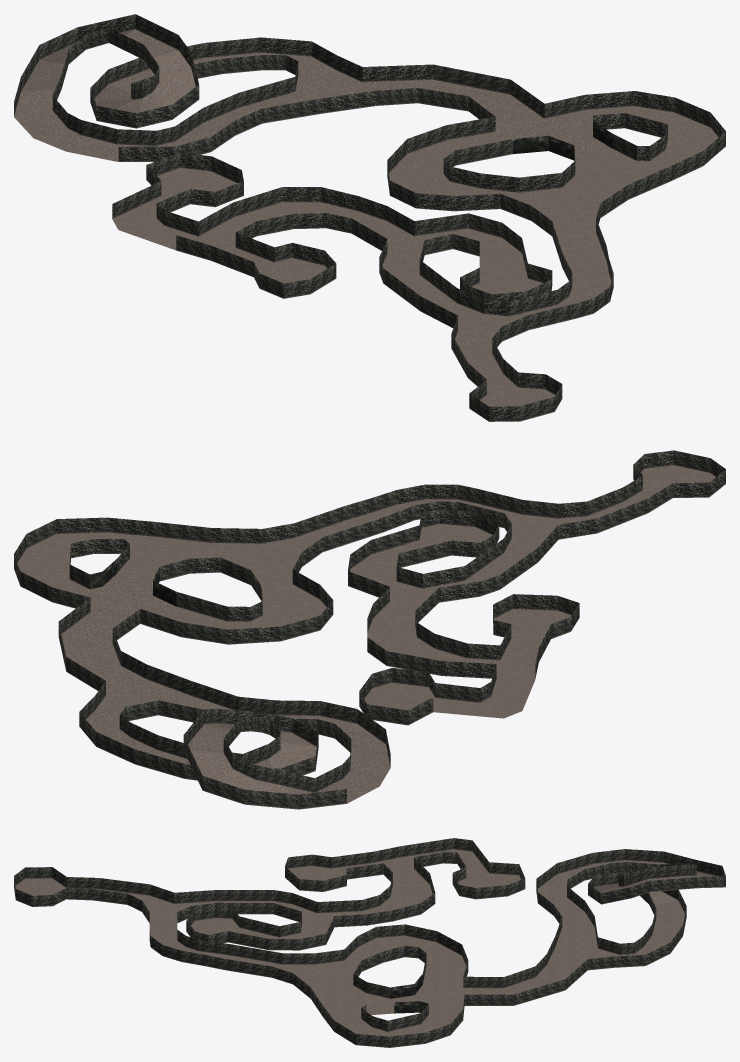
File: map1.fbx
3 views of the same model, one above another, from view 1: azimuth 30°, elevation 25°; view 2: azimuth 150°, elevation 25°; view 3: azimuth 270°, elevation 25° (orthographic). The views are drawn at different scales.
Parts seen in each view (by area): view 1: Room.014, Room.003, Room.018, Room.008, Room.015, Room.001, Room.006, Room.017, Room.002, Room.012, Room, Room.020 (+18 smaller); view 2: Room.003, Room.014, Room.002, Room.018, Room.008, Room.013, Room.015, Room.005, Room.001, Room.017, Room.010, Room (+18 smaller); view 3: Room.003, Room.014, Room.018, Room.002, Room.015, Room.008, Room.013, Room.010, Room.009, Room.016, Room.007, Room.017 (+18 smaller).
Part boxes in pixels (<box>): Room.014: <box>176,187,414,260</box>; Room.003: <box>500,134,669,235</box>; Room.018: <box>362,64,544,131</box>; Room.008: <box>387,116,512,194</box>; Room.015: <box>211,232,336,298</box>; Room.001: <box>420,288,576,341</box>; Room.006: <box>585,91,710,139</box>; Room.017: <box>496,95,612,160</box>; Room.002: <box>552,218,613,318</box>; Room.012: <box>388,213,521,256</box>; Room: <box>146,152,243,207</box>; Room.020: <box>203,77,320,135</box>; Room.003: <box>117,522,322,584</box>; Room.014: <box>367,587,538,680</box>; Room.002: <box>294,484,475,551</box>; Room.018: <box>58,598,146,695</box>; Room.008: <box>140,592,320,644</box>; Room.013: <box>371,509,499,567</box>; Room.015: <box>493,594,579,662</box>; Room.005: <box>26,517,155,558</box>; Room.001: <box>457,488,558,561</box>; Room.017: <box>52,559,176,619</box>; Room.010: <box>558,475,672,539</box>; Room: <box>359,668,435,725</box>; Room.003: <box>272,949,393,1016</box>; Room.014: <box>317,846,435,927</box>; Room.018: <box>463,954,587,1005</box>; Room.002: <box>149,929,283,977</box>; Room.015: <box>285,852,383,891</box>; Room.008: <box>404,924,468,987</box>; Room.013: <box>186,907,279,949</box>; Room.010: <box>66,877,174,911</box>; Room.009: <box>216,890,317,922</box>; Room.016: <box>401,838,489,878</box>; Room.007: <box>557,849,663,880</box>; Room.017: <box>390,973,464,1018</box>.
Size of the model in its own units: 13579 by 1215 by 20571.
